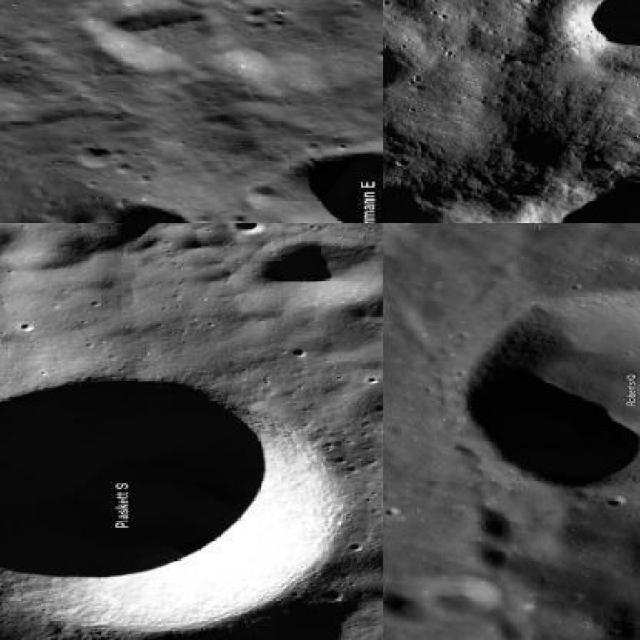crater: (0, 374, 343, 631), (457, 289, 638, 488), (448, 137, 638, 221), (254, 146, 381, 222), (252, 240, 376, 305), (582, 0, 638, 51), (89, 198, 202, 222)
